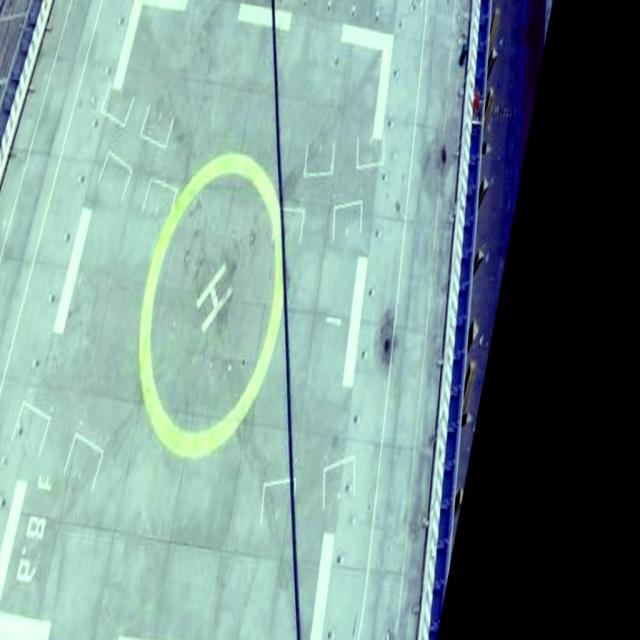helipad: (130, 142, 290, 464)
